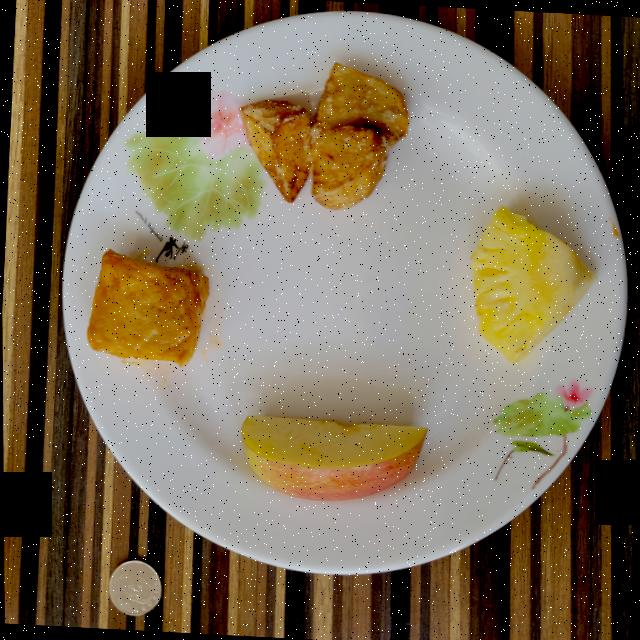apple -sliced-: (241, 415, 427, 500)
coin: (108, 560, 161, 615)
creamy tofu: (87, 249, 208, 365)
fried potato: (240, 63, 408, 209)
pineapple: (471, 205, 596, 362)
